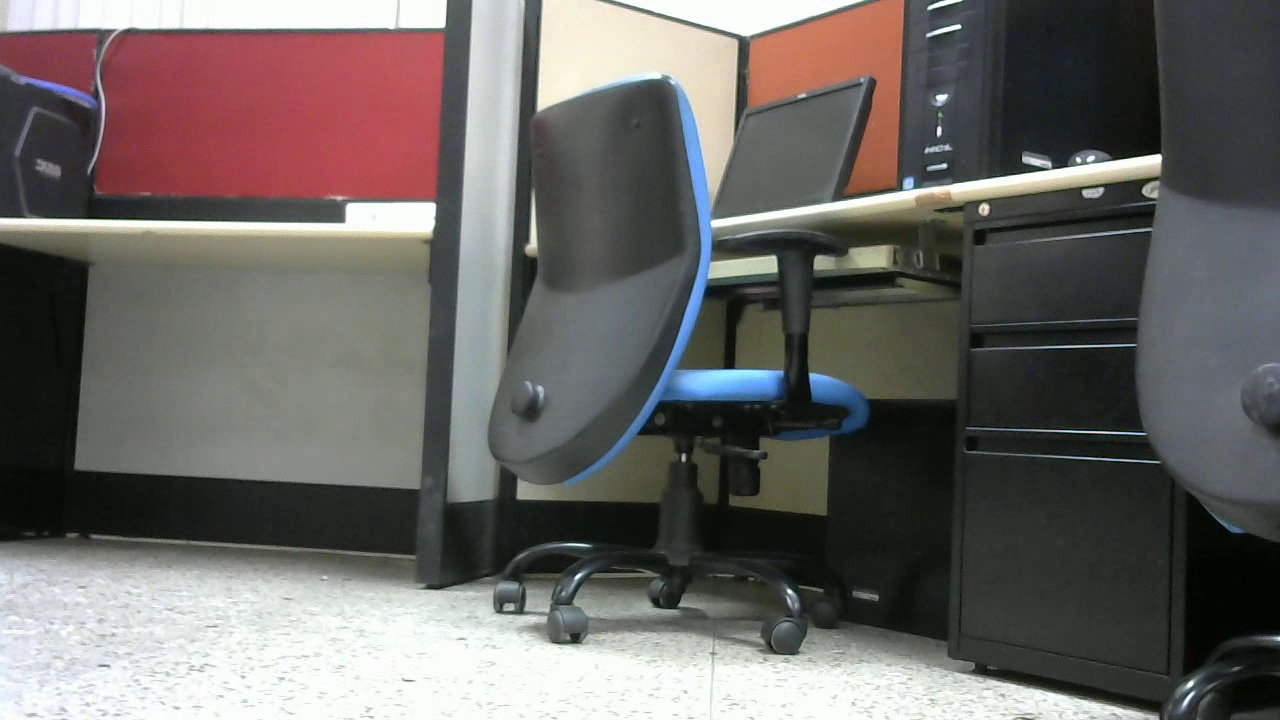chair: (453, 71, 870, 652)
